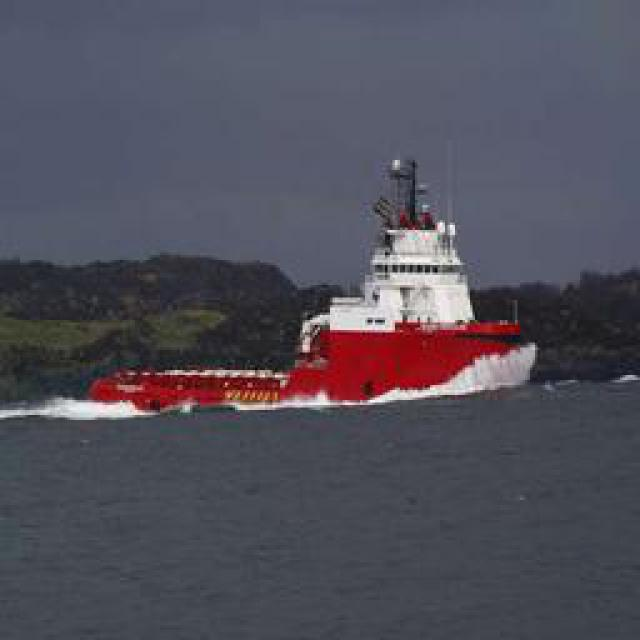Ship: (80, 151, 550, 416)
